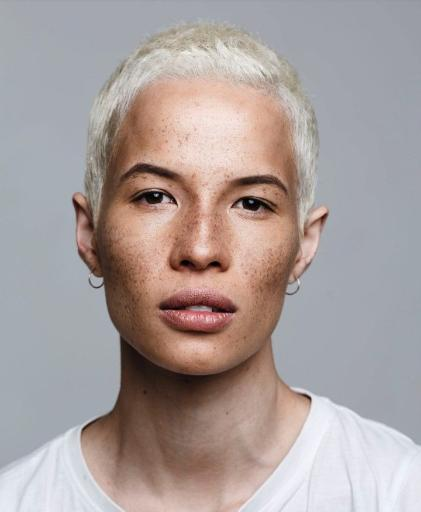left_eye: (231, 196, 277, 219)
left_lip_corner: (232, 306, 244, 319)
right_eye: (129, 189, 179, 213)
right_lip_corner: (156, 303, 168, 320)
